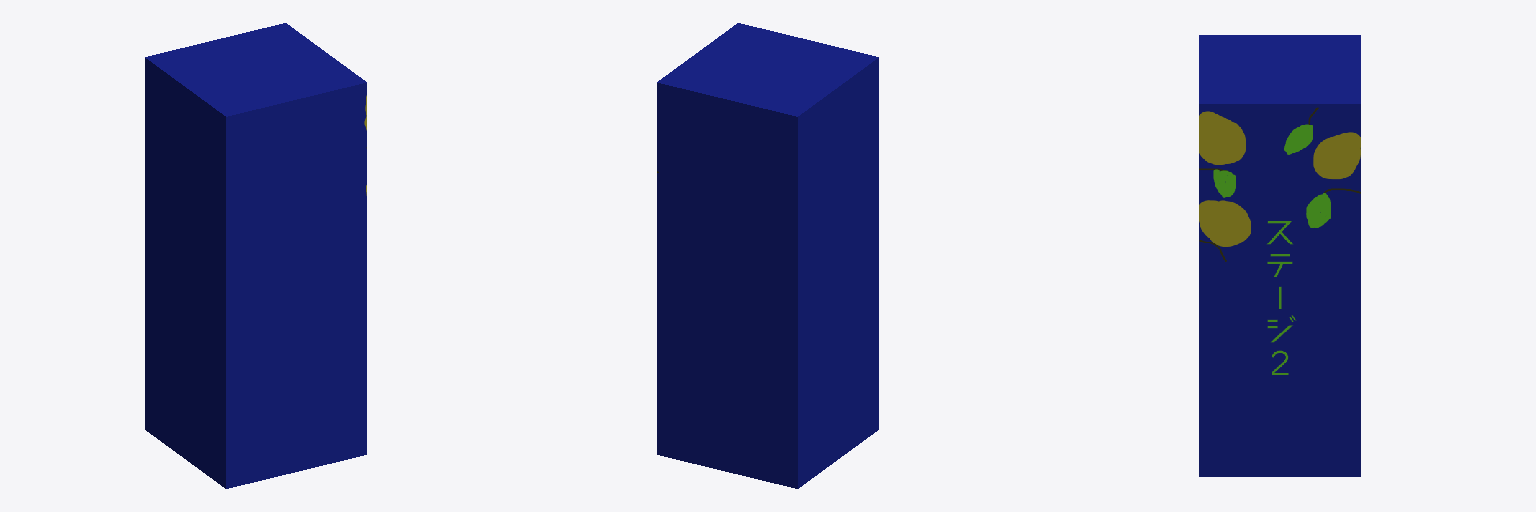
3 views of the same model, side by side, from view 1: azimuth 30°, elevation 25°; view 2: azimuth 150°, elevation 25°; view 3: azimuth 270°, elevation 25° (orthographic).
Visible parts, largest first — view 1: Cube; view 2: Cube; view 3: Cube.
Boxes of the visible parts, x1=… form: Cube: x1=145, y1=23, x2=366, y2=488; Cube: x1=657, y1=23, x2=878, y2=488; Cube: x1=1199, y1=35, x2=1360, y2=476.
Bounding box in the file's own units: 2 × 5.04 × 2.
Materials: 1 (1 with a texture image).